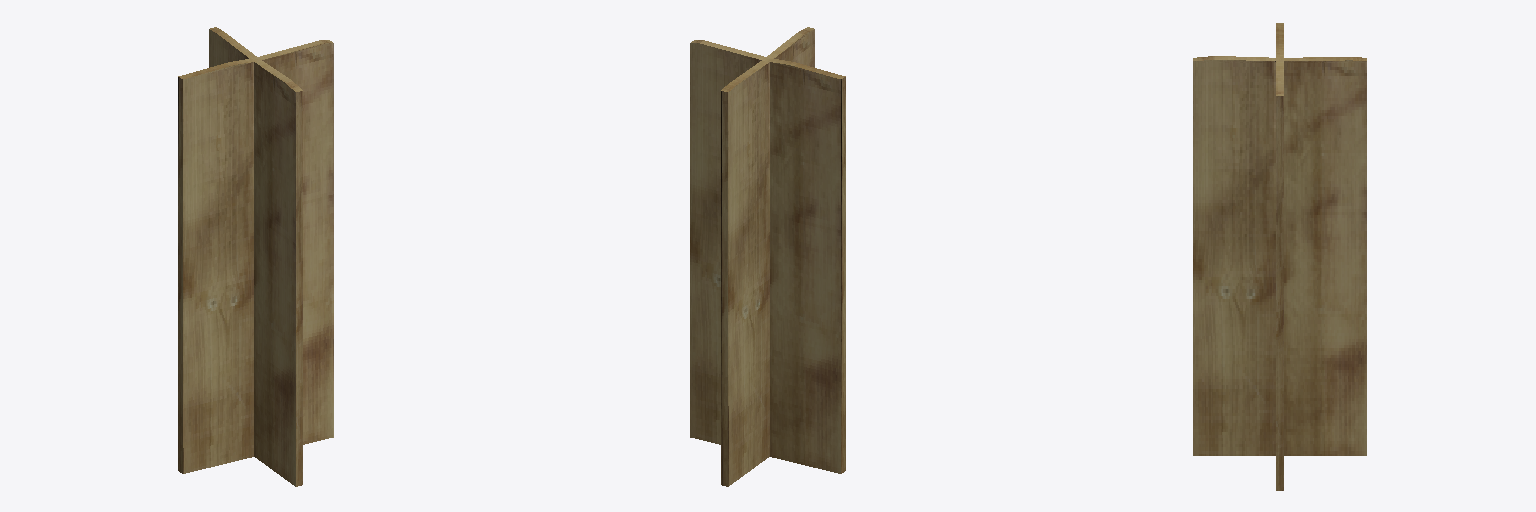
The picture shows the model from 3 angles: view 1: azimuth 30°, elevation 25°; view 2: azimuth 150°, elevation 25°; view 3: azimuth 270°, elevation 25°; orthographic projection.
Size of the model in its own units: 2 by 5.03 by 2.
1 materials, 1 textured.